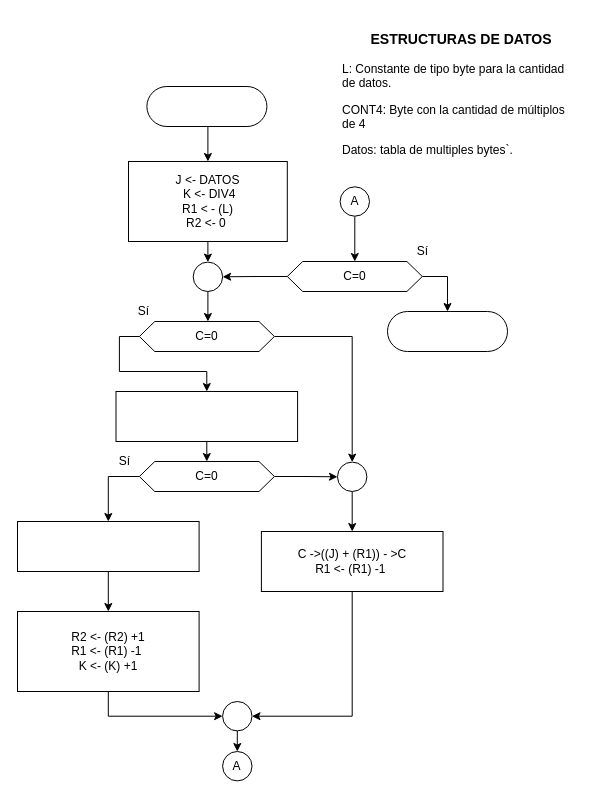
This 598x799 diagram has some shape labels left out. The box of each missing label's shape, as (x1, y1, x2, y2) in pixels:
C ->((J) + (R1)) - >C: (16, 520, 199, 572)
C ->((J) + (R1)) - >C C ->((J) + (R1)) - >C: (115, 390, 298, 442)
DIV4: (146, 86, 267, 126)
Fin: (386, 310, 508, 352)
